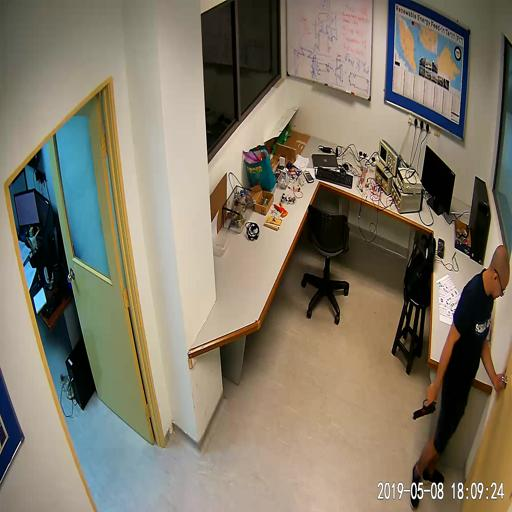pistol: (412, 381, 436, 420)
